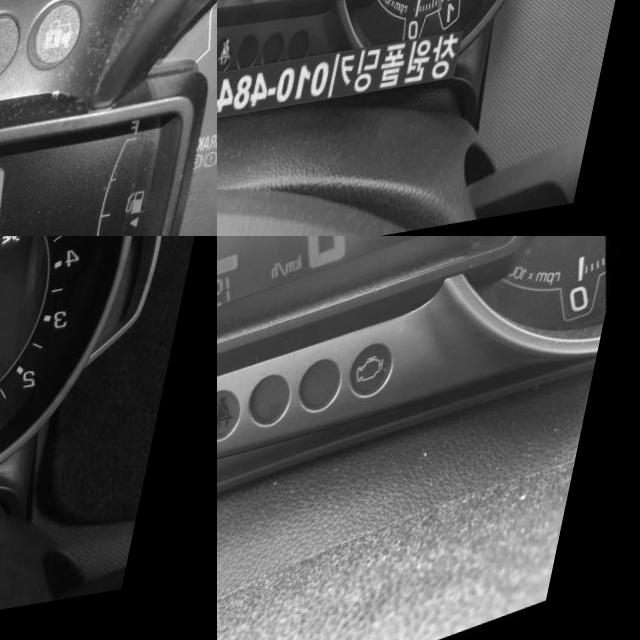Doors: (0, 260, 4, 289)
SideLamp: (13, 240, 36, 262)
